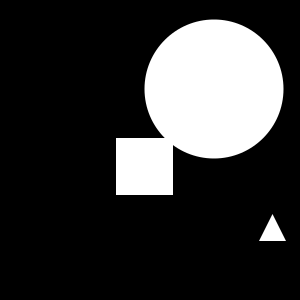circle: (116, 138, 173, 195)
rectangle: (144, 20, 284, 158)
triangle: (259, 214, 286, 241), (245, 52, 254, 61)
